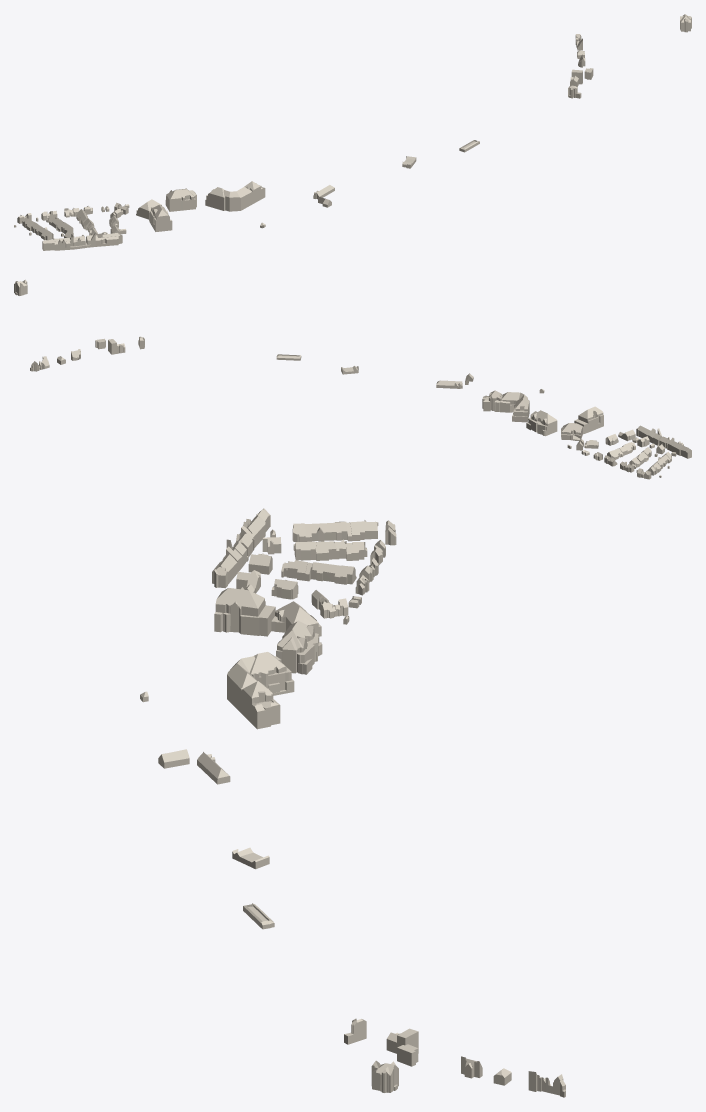
The picture shows the model from 3 angles, top to bottom: view 1: azimuth 30°, elevation 25°; view 2: azimuth 150°, elevation 25°; view 3: azimuth 270°, elevation 25°; orthographic projection. The views are drawn at different scales.
Size of the model in its own units: 852 by 55.51 by 244.
